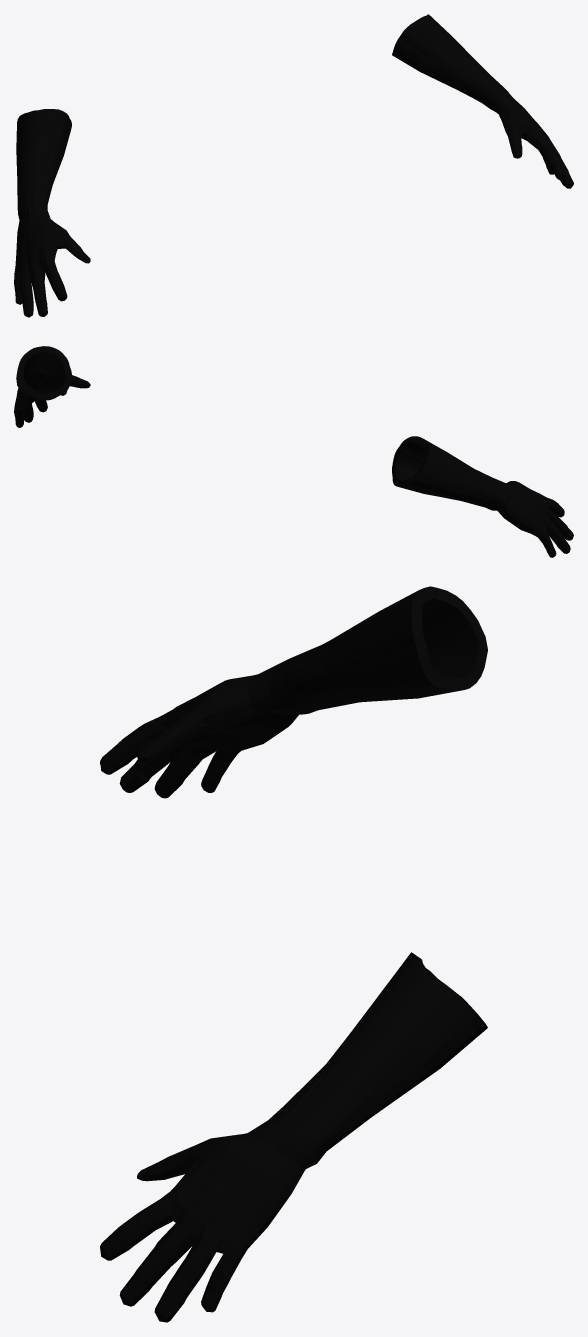
Rendered from mhw_culturalibre_hero-heroine_gloves_1.glb.
The picture shows the model from 3 angles, top to bottom: view 1: azimuth 30°, elevation 25°; view 2: azimuth 150°, elevation 25°; view 3: azimuth 270°, elevation 25°; orthographic projection. The views are drawn at different scales.
Visible parts, largest first — view 1: mhw_culturalibre_hero-heroine_gloves_1; view 2: mhw_culturalibre_hero-heroine_gloves_1; view 3: mhw_culturalibre_hero-heroine_gloves_1.
Boxes of the visible parts, x1,y1,x2,y2 form: mhw_culturalibre_hero-heroine_gloves_1: (14, 14, 573, 317); mhw_culturalibre_hero-heroine_gloves_1: (14, 346, 573, 557); mhw_culturalibre_hero-heroine_gloves_1: (100, 586, 487, 1322).
Bounding box in the file's own units: 1.22 × 0.3035 × 0.3756.
1 material, 1 textured.
